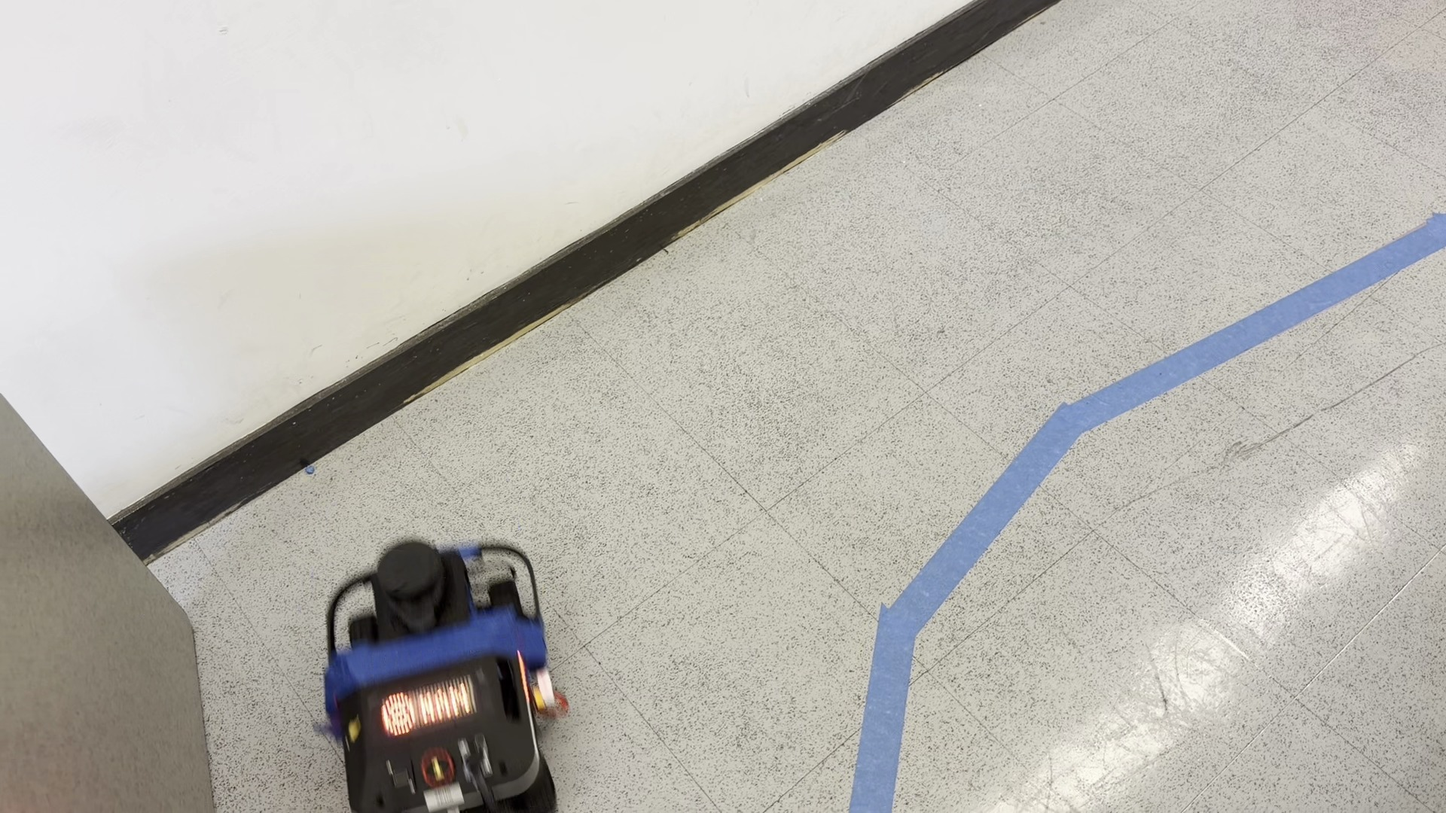racecar: (320, 543, 566, 813)
